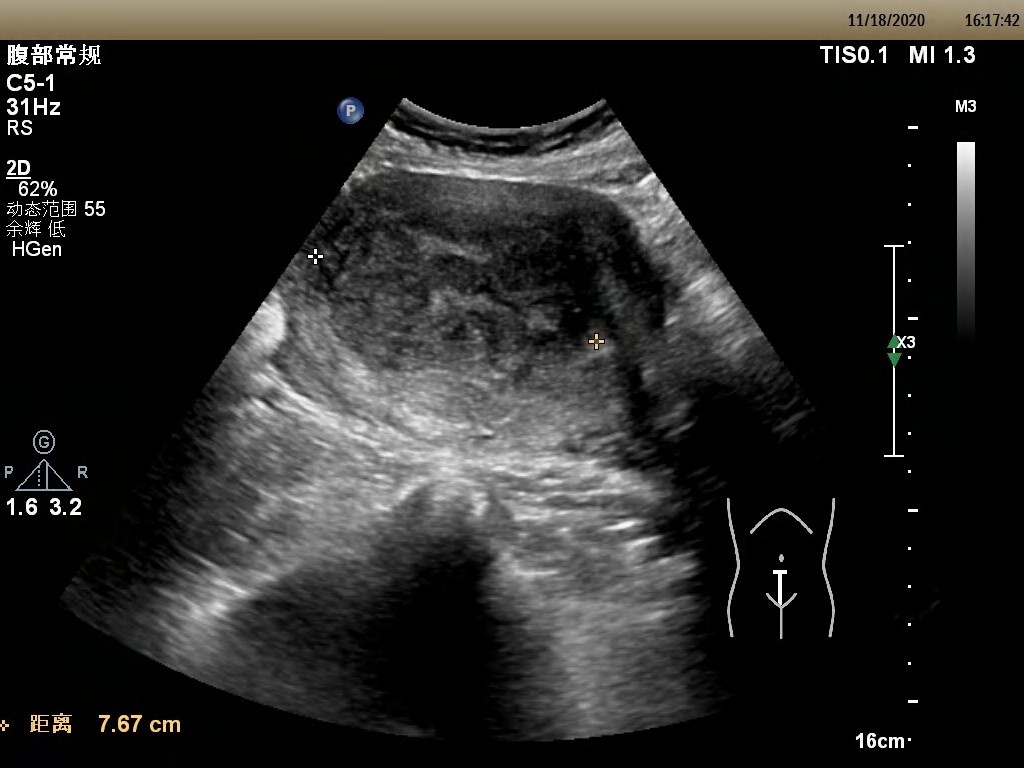肌瘤: (316, 201, 599, 380)
